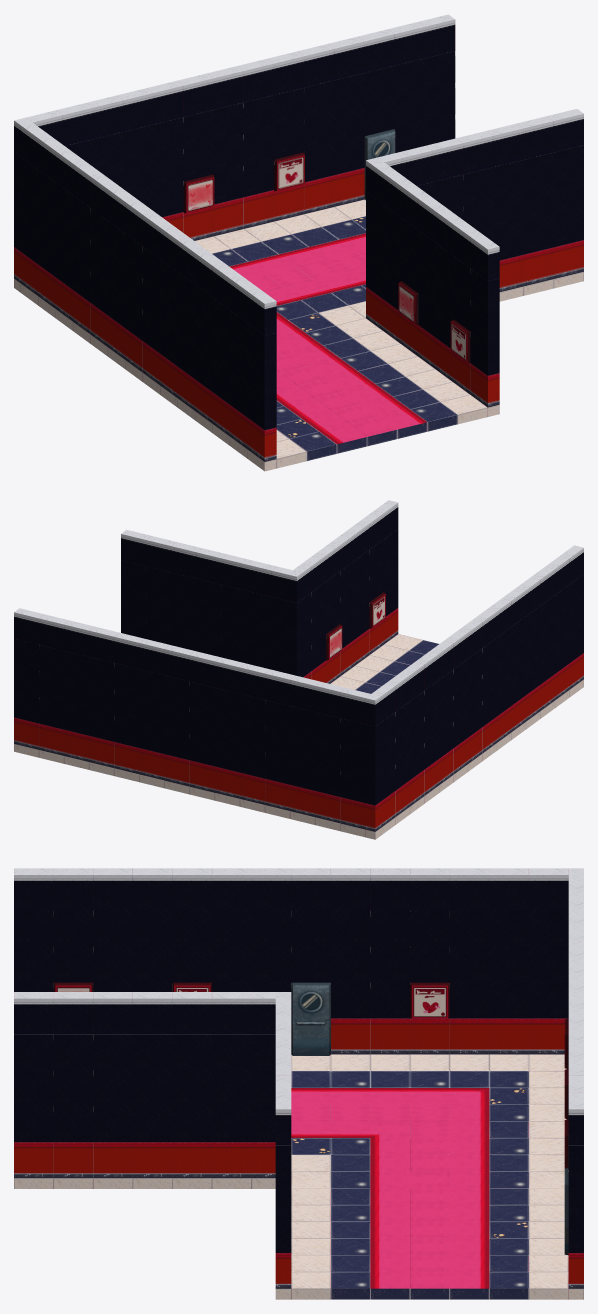
The model's file is CinemaTurn.fbx.
The picture shows the model from 3 angles, top to bottom: view 1: azimuth 30°, elevation 25°; view 2: azimuth 150°, elevation 25°; view 3: azimuth 270°, elevation 25°; orthographic projection. The views are drawn at different scales.
Parts seen in each view (by area): view 1: Turn; view 2: Turn; view 3: Turn.
Part boxes in pixels (left/top/right/bottom): Turn: left=14, top=14, right=583, bottom=471; Turn: left=14, top=500, right=583, bottom=839; Turn: left=14, top=868, right=583, bottom=1299.
Bounding box in the file's own units: 1439 × 530 × 1439.
